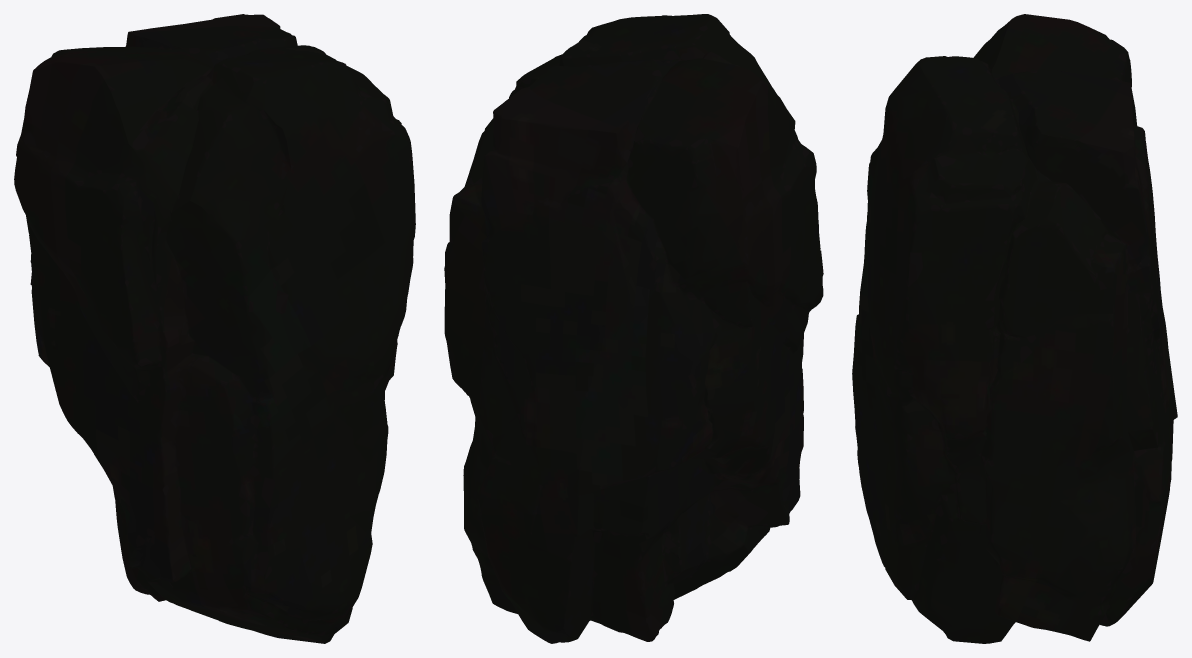
3 views of the same model, side by side, from view 1: azimuth 30°, elevation 25°; view 2: azimuth 150°, elevation 25°; view 3: azimuth 270°, elevation 25° (orthographic). The views are drawn at different scales.
Parts seen in each view (by area): view 1: SM_BM_LimestoneLarge_02_LOD0; view 2: SM_BM_LimestoneLarge_02_LOD0; view 3: SM_BM_LimestoneLarge_02_LOD0.
Part boxes in pixels (left/top/right/bottom): SM_BM_LimestoneLarge_02_LOD0: left=14, top=14, right=415, bottom=643; SM_BM_LimestoneLarge_02_LOD0: left=444, top=14, right=823, bottom=643; SM_BM_LimestoneLarge_02_LOD0: left=852, top=14, right=1177, bottom=643.
Bounding box in the file's own units: 8.13 × 15.03 × 8.05.
1 material, 1 textured.
